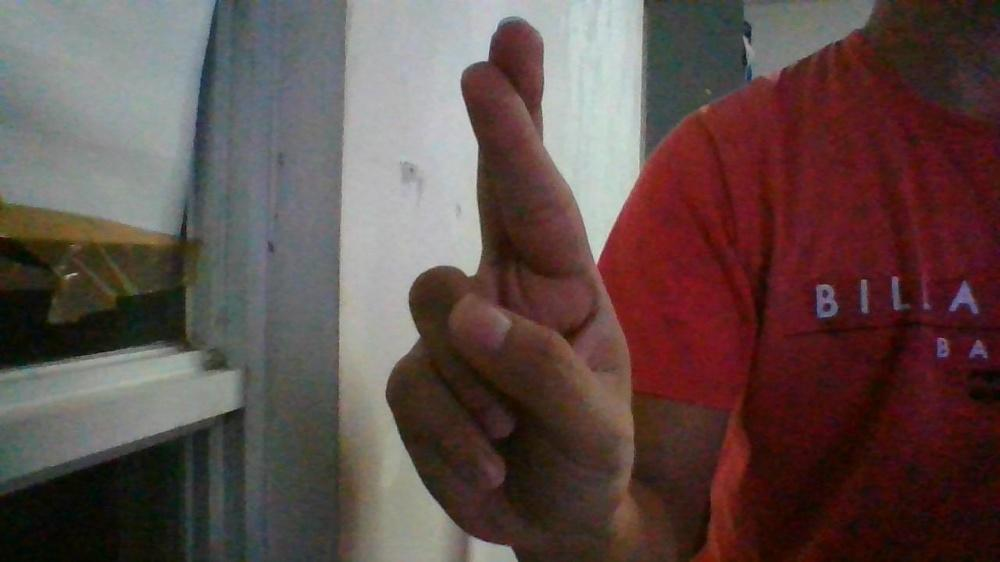r: (382, 15, 641, 548)
